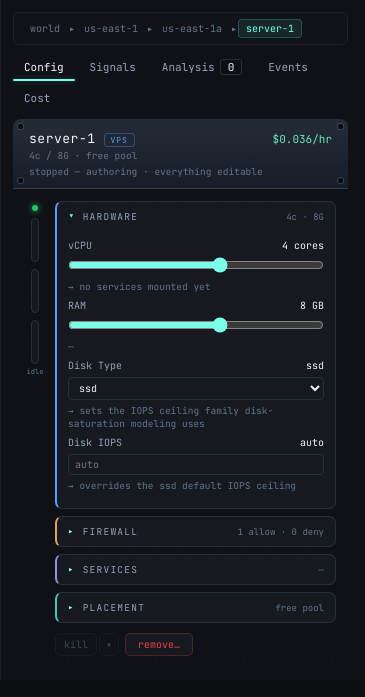
Test: WorldPanel scope (Polish 4 T1) › server scope Cost tab shows compute cost plus the documented egress caveat
The width and height of the screenshot is (365, 697).
Step 1. Click the button "Cost" → (37, 98), box [13, 85, 61, 111]
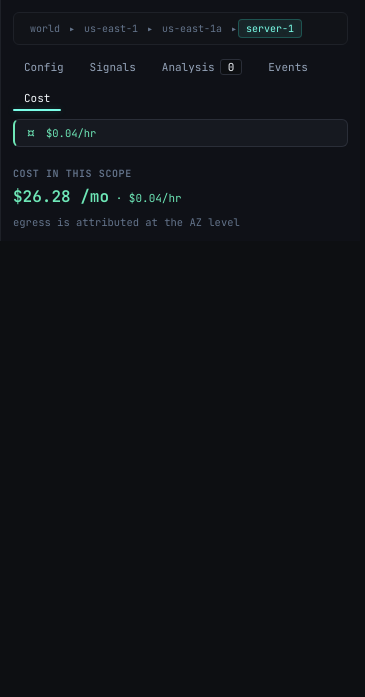
Now the element with test id "scoped-cost" is shown, box [13, 167, 240, 229]
Now the text "egress is attributed at the AZ level" is shown, box [13, 215, 240, 229]
